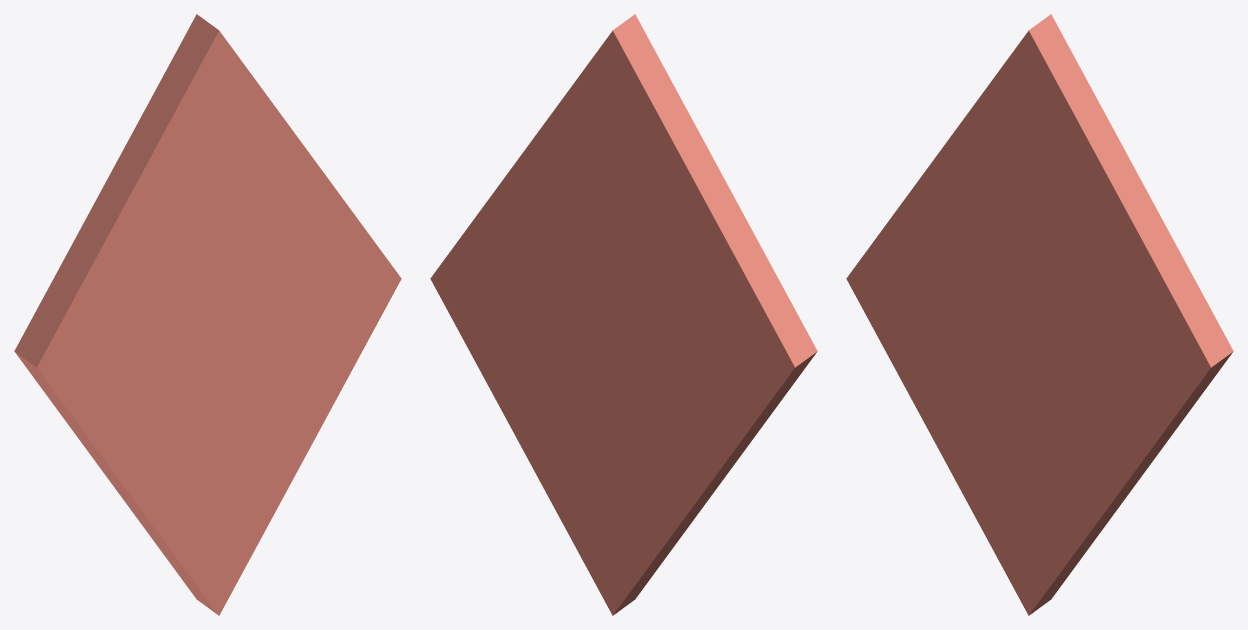
File: badge_mcqueen.glb
3 views of the same model, side by side, from view 1: azimuth 30°, elevation 25°; view 2: azimuth 150°, elevation 25°; view 3: azimuth 330°, elevation 25° (orthographic).
Visible parts, largest first — view 1: badge; view 2: badge; view 3: badge.
Part boxes in pixels (x1,y1,x2,y2): badge: [14, 14, 401, 615]; badge: [430, 14, 817, 615]; badge: [846, 14, 1233, 615].
Size of the model in its own units: 1.5 by 2.3 by 0.16.
